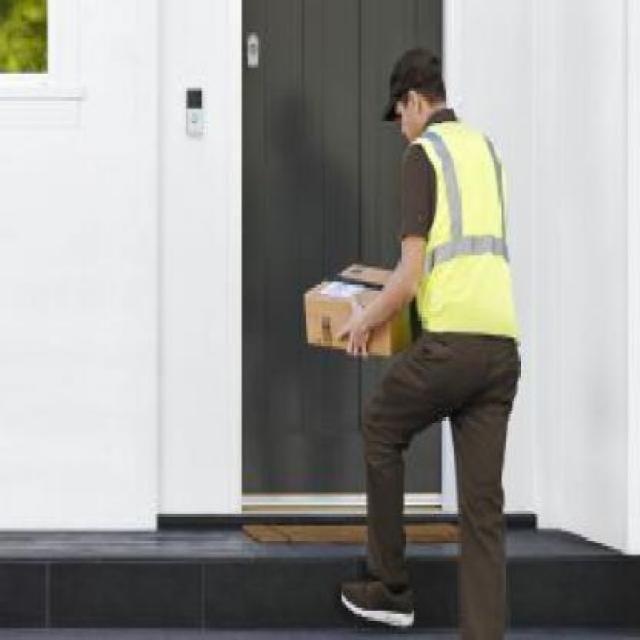box: (308, 259, 430, 354)
